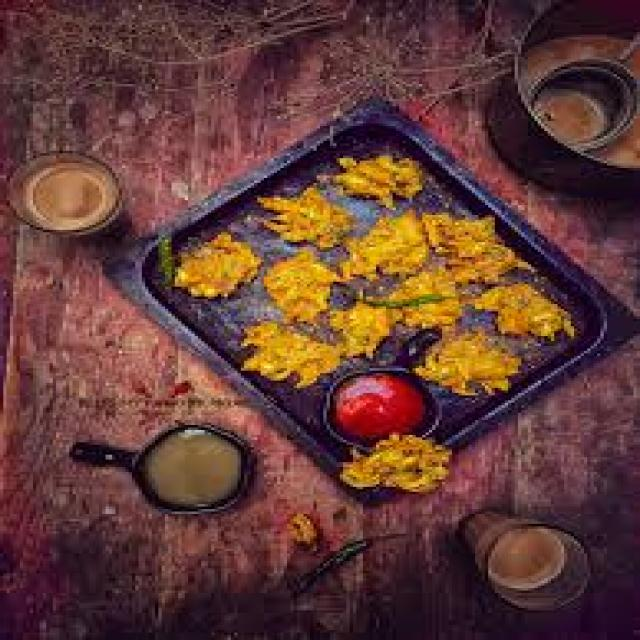BAJI: (429, 216, 537, 291), (244, 313, 347, 381), (479, 281, 586, 343), (168, 233, 267, 298), (350, 442, 462, 495), (426, 330, 522, 389), (351, 215, 435, 279), (267, 192, 355, 250), (316, 159, 420, 204), (328, 303, 396, 363)
